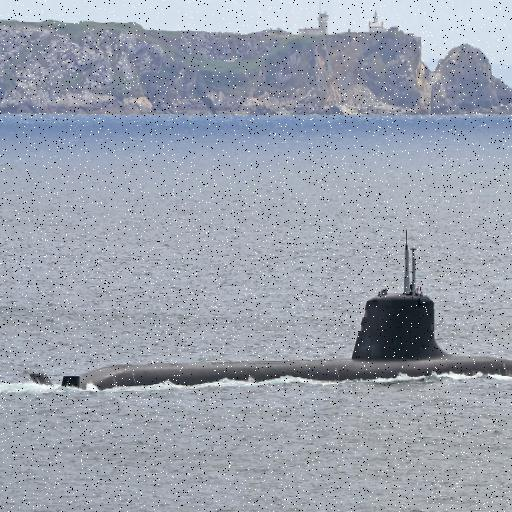submarine: (36, 291, 512, 384)
